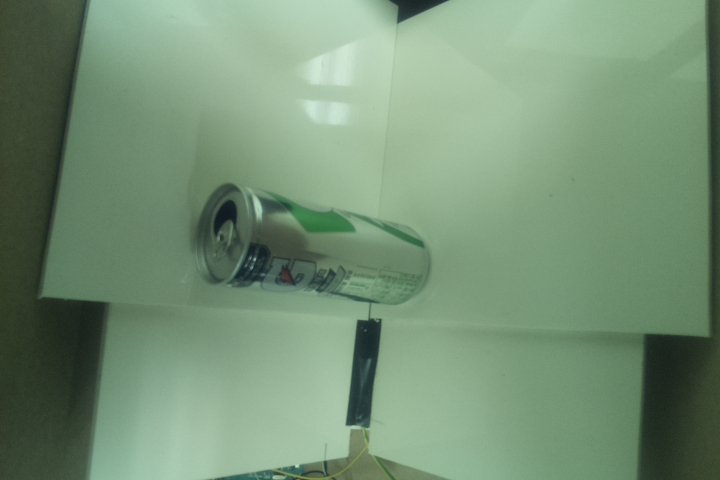can: (189, 178, 435, 308)
